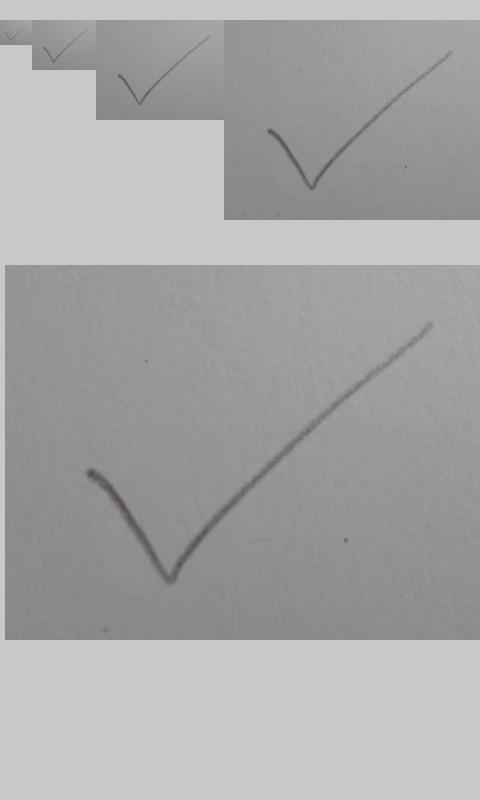check_box: (85, 326, 426, 587), (267, 52, 451, 191), (117, 37, 207, 106), (42, 31, 86, 63), (4, 27, 25, 42)
